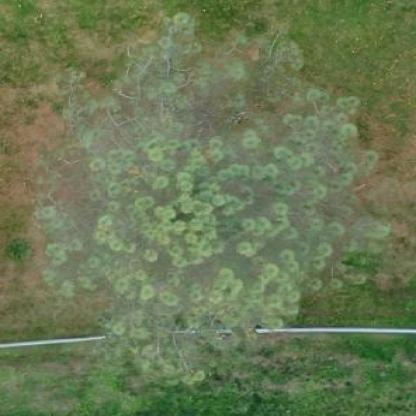Coniferous Tree: (13, 15, 383, 390)
